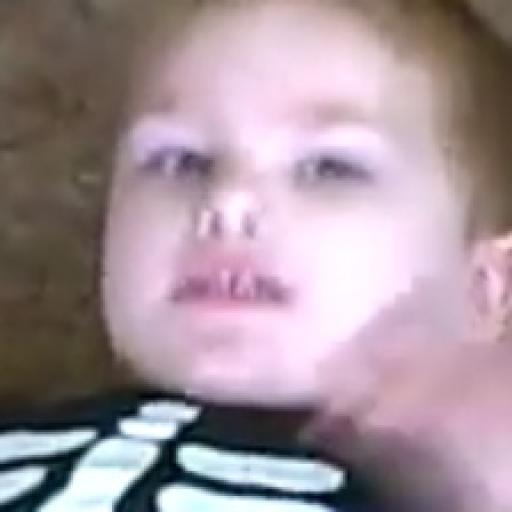Autism: (89, 27, 512, 432)
